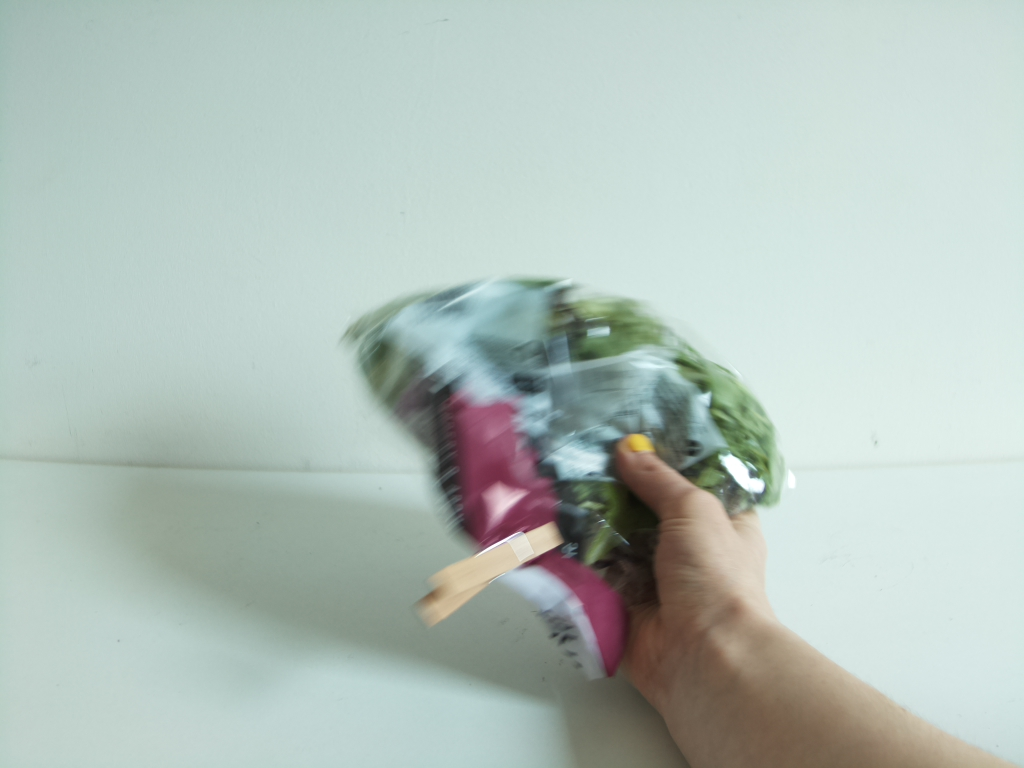salad: (342, 275, 787, 682)
